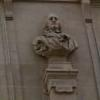Statue: (27, 8, 80, 100)
